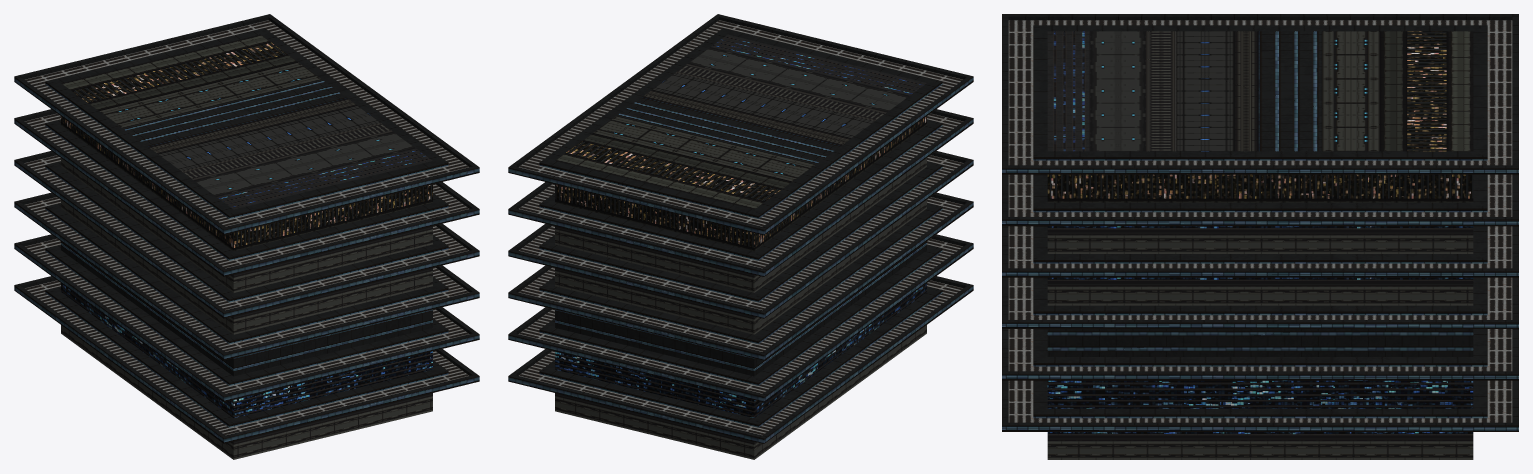
Rendered from Ultra3.fbx.
3 views of the same model, side by side, from view 1: azimuth 30°, elevation 25°; view 2: azimuth 150°, elevation 25°; view 3: azimuth 270°, elevation 25° (orthographic). The views are drawn at different scales.
Visible parts, largest first — view 1: polySurface432; view 2: polySurface432; view 3: polySurface432.
Part boxes in pixels (x1,y1,x2,y2): polySurface432: (14,14,479,459); polySurface432: (508,14,973,459); polySurface432: (1002,14,1518,459).
Size of the model in its own units: 25.66 by 24.01 by 36.41.
2 materials, 2 textured.
